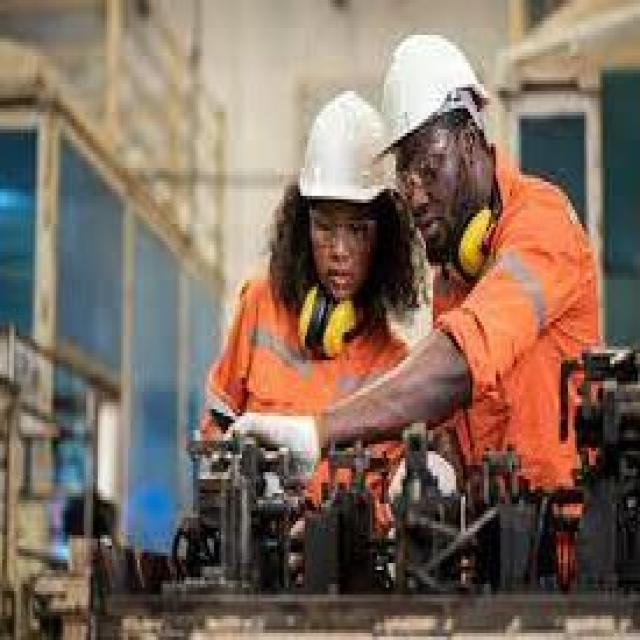Reflective-Jacket: (431, 171, 612, 514), (221, 272, 391, 538)
Safety-Helmet: (370, 24, 498, 164), (282, 80, 400, 220)
